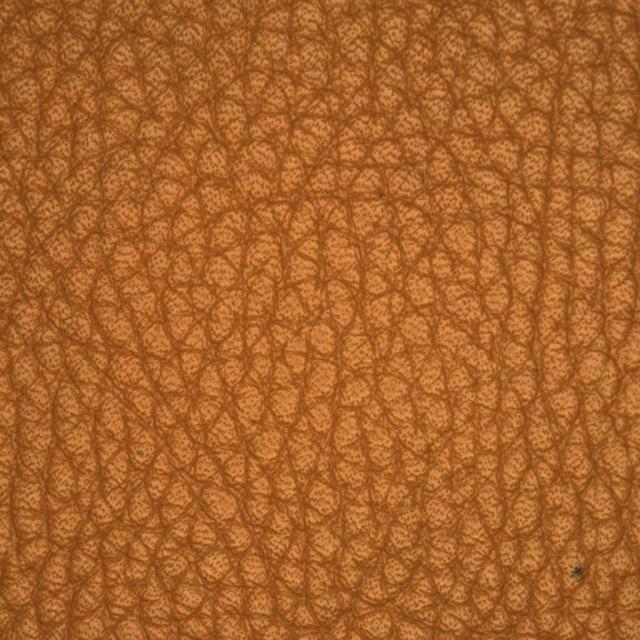pinhole: (510, 450, 621, 627)
